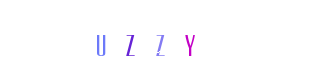U: (82, 0, 162, 80)
Y: (149, 0, 229, 80)
Z: (115, 0, 195, 80), (121, 0, 201, 80)
